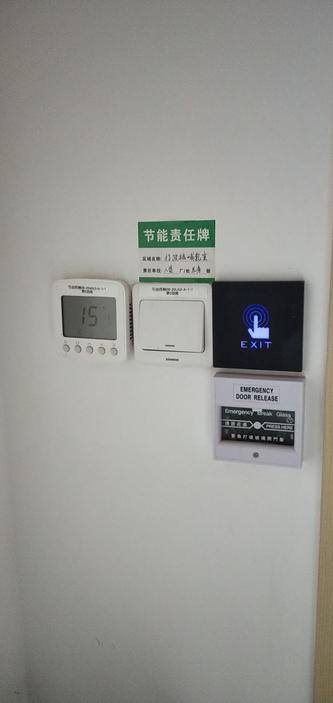switch: (135, 298, 209, 356)
